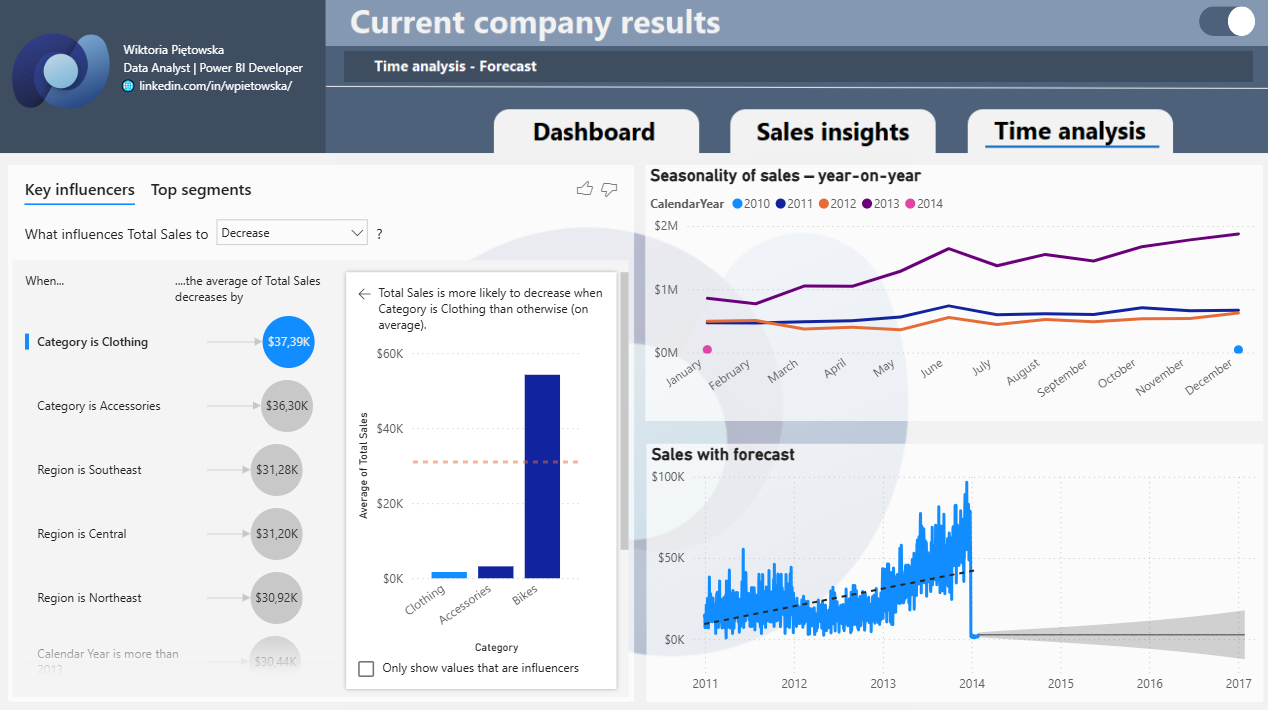

What the dashboard file says about the page in this screenshot:
{"tool":"powerbi","page":{"name":"TimeAnalysis","canvas":[1280,720],"ordinal":3},"visuals":[{"type":"image","box":[0,0,1280,720],"z":0},{"type":"image","title":"Company Logo","box":[12.7,22.7,108.2,107.3],"z":1000},{"type":"textbox","box":[120.9,22.7,228.2,96.4],"z":2000},{"type":"lineChart","title":"Sales with forecast","fields":{"Y":["#Miary.TotalSales"],"Category":["vw_DimDate.Date.Odmiana.Hierarchia dat.Rok"]},"box":[652.7,448.8,616.5,258.2],"z":3000},{"type":"lineChart","title":"Seasonality of sales – year-on-year","fields":{"Category":["vw_DimDate.MonthName"],"Series":["vw_DimDate.CalendarYear"],"Y":["#Miary.TotalSales"]},"box":[651.5,170.1,617.7,255.8],"z":4000},{"type":"keyDriversVisual","fields":{"Target":["#Miary.TotalSales"],"ExplainBy":["vw_DimSalesTerritory.Region","vw_DimProduct.EnglishProductCategoryName","vw_DimCustomer.Gender","vw_DimDate.CalendarYear","vw_DimDate.MonthName"]},"box":[13.3,170.1,626.1,536.9],"z":5000},{"type":"actionButton","box":[734.7,119.4,206.3,33.8],"z":6000},{"type":"actionButton","box":[499.5,119.4,206.3,33.8],"z":7000},{"type":"shape","title":"Filters","box":[1205,11.2,56.2,30],"z":10000},{"type":"shape","box":[1233.8,11.2,27.5,30],"z":11000},{"type":"actionButton","box":[1194.3,1.4,38.6,51.4],"z":13000},{"type":"actionButton","box":[1234.3,0,38.6,51.4],"z":14000}]}

Visuals, with their boxes on the page's 1280x720 design canvas (x1, y1, x2, y2). These are canvas units, not pixel positions in the 1268x710 screenshot, which may show the page scaled, cropped or inside an application window:
image: 0 0 1280 720
"Company Logo" image: 13 23 121 130
textbox: 121 23 349 119
"Sales with forecast" lineChart: 653 449 1269 707
"Seasonality of sales – year-on-year" lineChart: 652 170 1269 426
keyDriversVisual - #Miary.TotalSales x vw_DimSalesTerritory.Region: 13 170 639 707
actionButton: 735 119 941 153
actionButton: 500 119 706 153
"Filters" shape: 1205 11 1261 41
shape: 1234 11 1261 41
actionButton: 1194 1 1233 53
actionButton: 1234 0 1273 51
